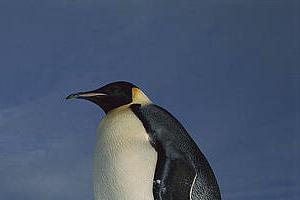Emperor Penguin: (42, 70, 263, 200)
